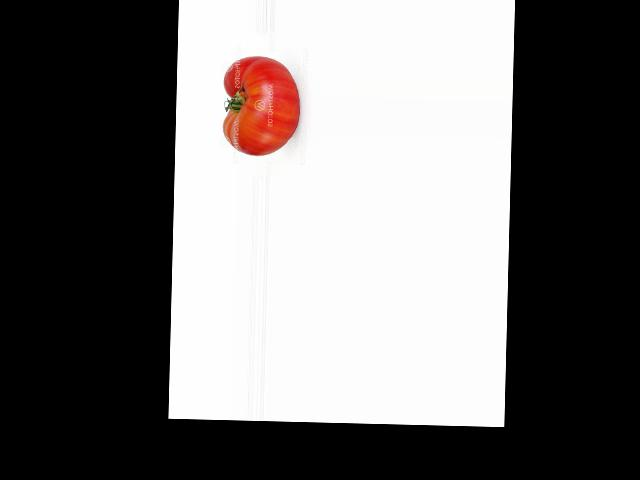tomato: (221, 56, 301, 157)
